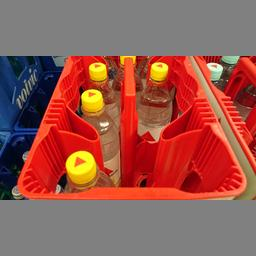water: (78, 88, 118, 181), (54, 148, 116, 194), (135, 60, 170, 138)
